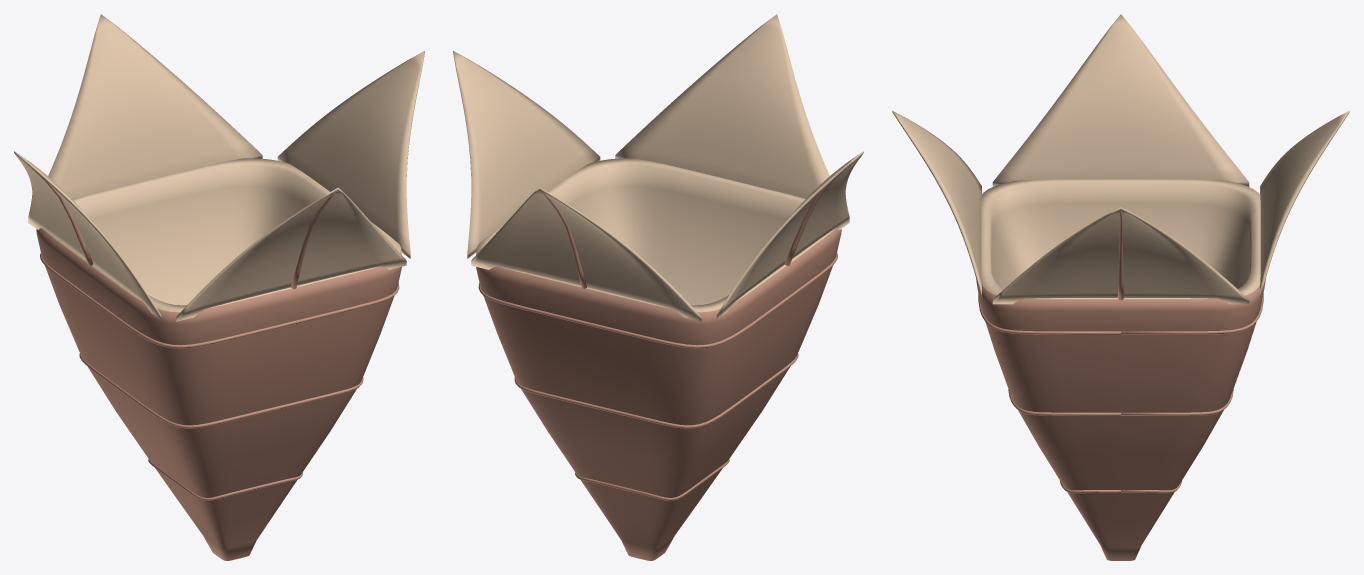
The model's file is goniophyllum.glb.
3 renders of one model, left to right at view 1: azimuth 30°, elevation 25°; view 2: azimuth 150°, elevation 25°; view 3: azimuth 270°, elevation 25°, orthographic. The views are drawn at different scales.
Visible parts, largest first — view 1: rounded-square-cup-with-growth-contours, four-hinged-triangular-opercula, subtle-organic-growth-ridges; view 2: rounded-square-cup-with-growth-contours, four-hinged-triangular-opercula, subtle-organic-growth-ridges; view 3: rounded-square-cup-with-growth-contours, four-hinged-triangular-opercula, subtle-organic-growth-ridges.
Boxes of the visible parts, x1,y1,x2,y2 form: rounded-square-cup-with-growth-contours: (36,158,401,560); four-hinged-triangular-opercula: (14,14,424,321); subtle-organic-growth-ridges: (40,253,399,500); rounded-square-cup-with-growth-contours: (476,158,841,560); four-hinged-triangular-opercula: (453,14,863,321); subtle-organic-growth-ridges: (478,253,837,500); rounded-square-cup-with-growth-contours: (976,179,1265,560); four-hinged-triangular-opercula: (892,14,1349,304); subtle-organic-growth-ridges: (978,293,1263,493).
Size of the model in its own units: 0.107 by 0.1133 by 0.107.
